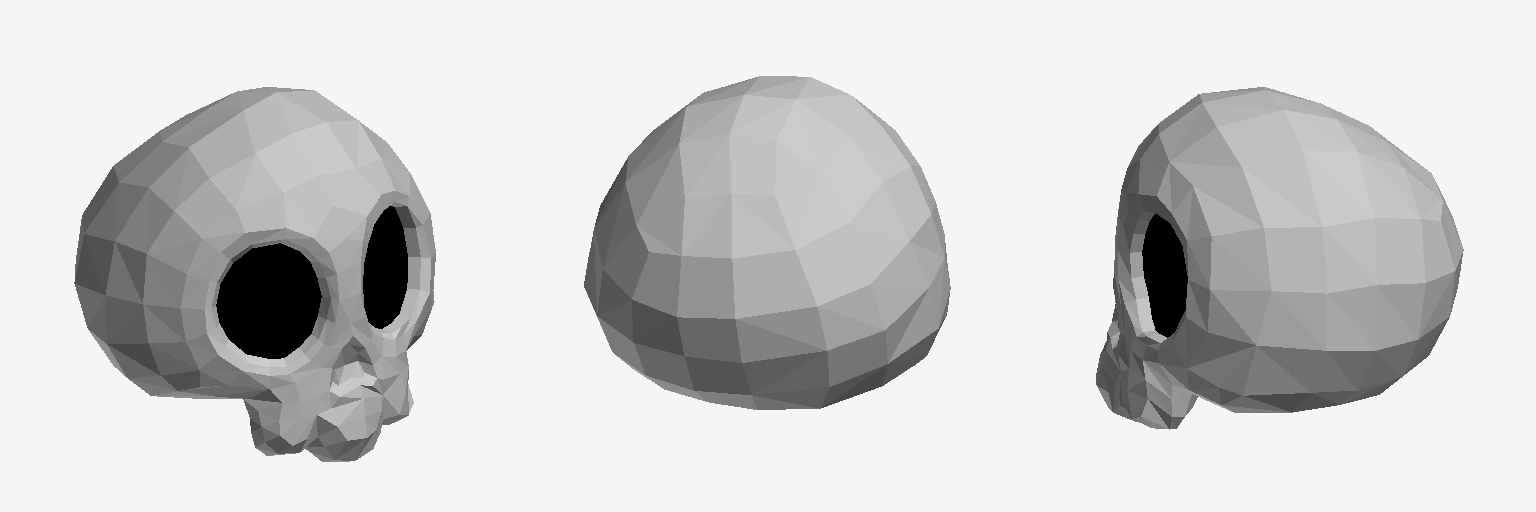
File: Skeleton_Head.obj
The picture shows the model from 3 angles: view 1: azimuth 30°, elevation 25°; view 2: azimuth 150°, elevation 25°; view 3: azimuth 270°, elevation 25°; orthographic projection.
Parts seen in each view (by area): view 1: Skeleton_Head; view 2: Skeleton_Head; view 3: Skeleton_Head.
Boxes of the visible parts, x1,y1,x2,y2 form: Skeleton_Head: [74, 87, 435, 461]; Skeleton_Head: [584, 76, 950, 409]; Skeleton_Head: [1096, 87, 1463, 429].
Size of the model in its own units: 1.42 by 1.33 by 1.41.